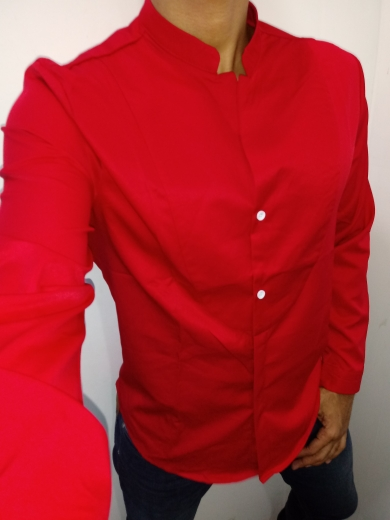shirts: (4, 1, 371, 520)
